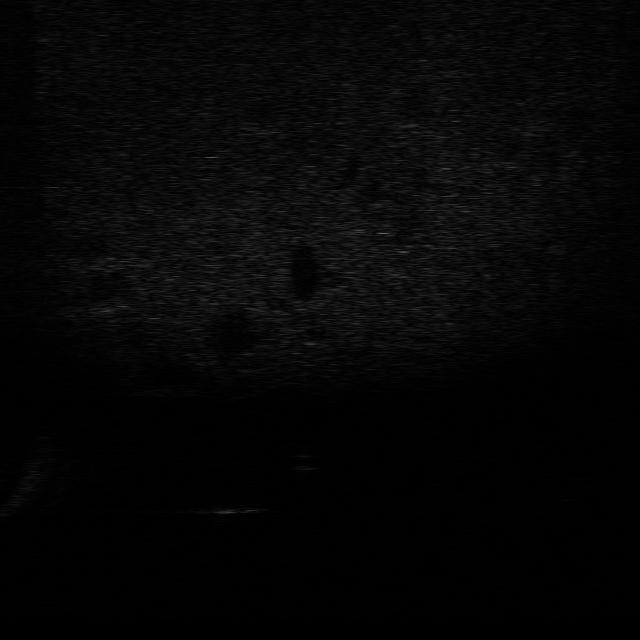ball: (274, 445, 325, 477)
square cage: (194, 495, 268, 524)
tyre: (551, 469, 601, 507)
